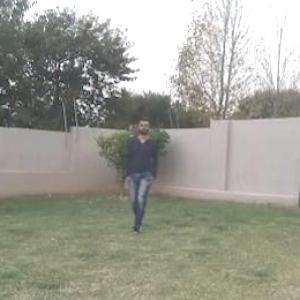follow: (124, 114, 154, 233)
